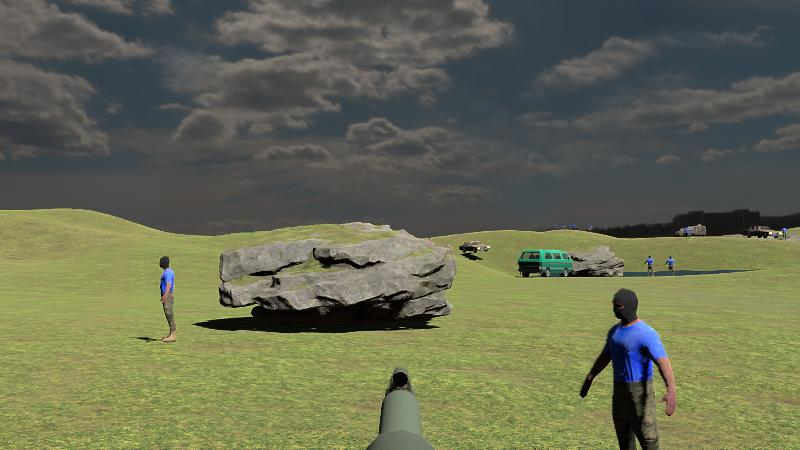Human: (580, 286, 676, 450), (159, 255, 176, 342)
car: (517, 249, 573, 278), (458, 239, 490, 253)
